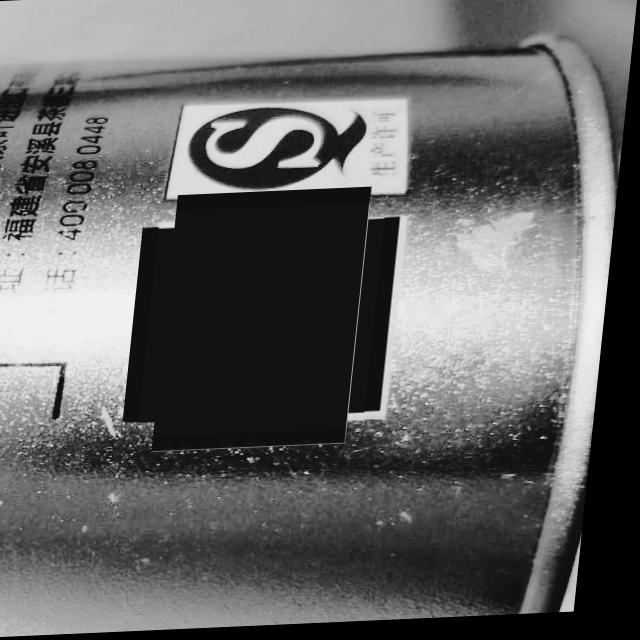qr_code: (147, 204, 391, 438)
